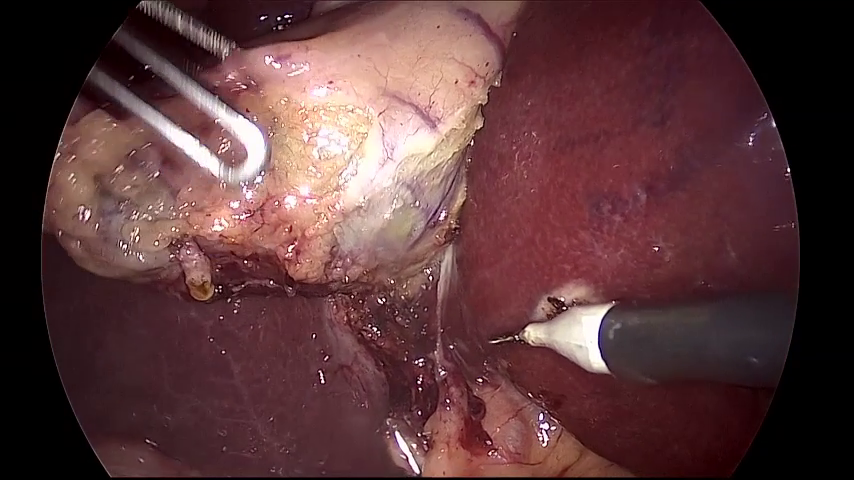grasper: (87, 1, 266, 189)
lhook: (483, 287, 798, 388)
